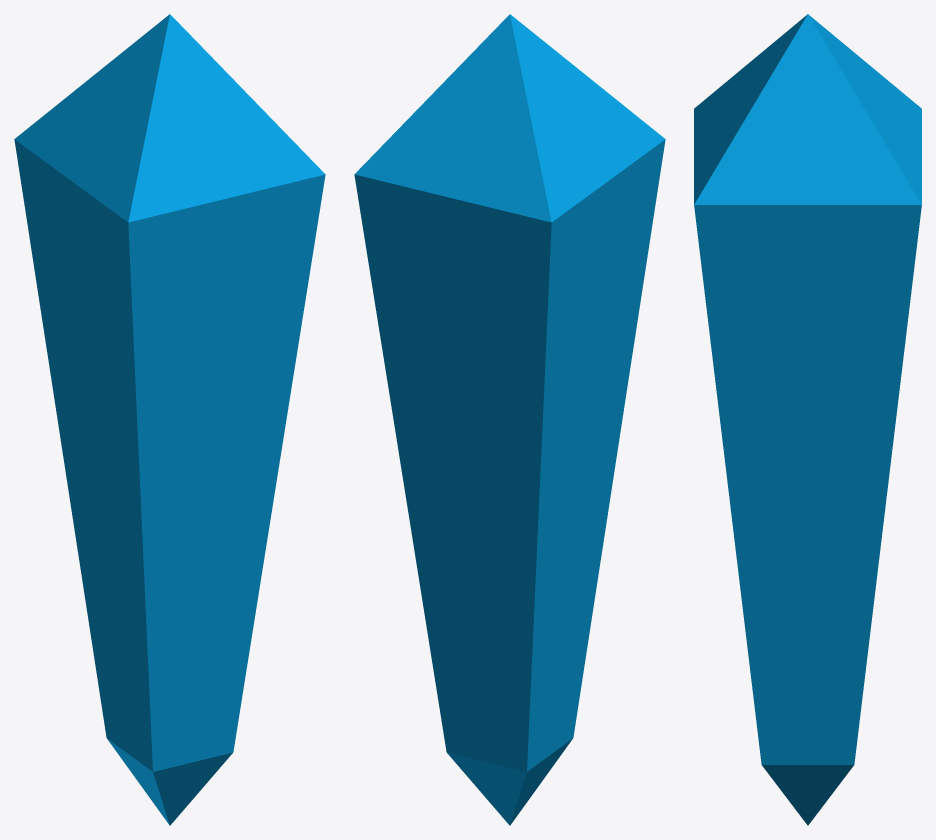
File: crystal_long.fbx
The picture shows the model from 3 angles, left to right: view 1: azimuth 30°, elevation 25°; view 2: azimuth 150°, elevation 25°; view 3: azimuth 270°, elevation 25°; orthographic projection.
Visible parts, largest first — view 1: crystal.long; view 2: crystal.long; view 3: crystal.long.
Boxes of the visible parts, x1,y1,x2,y2 form: crystal.long: [14, 14, 325, 825]; crystal.long: [354, 14, 665, 825]; crystal.long: [694, 14, 921, 825].
Size of the model in its own units: 69.75 by 274 by 69.75.
